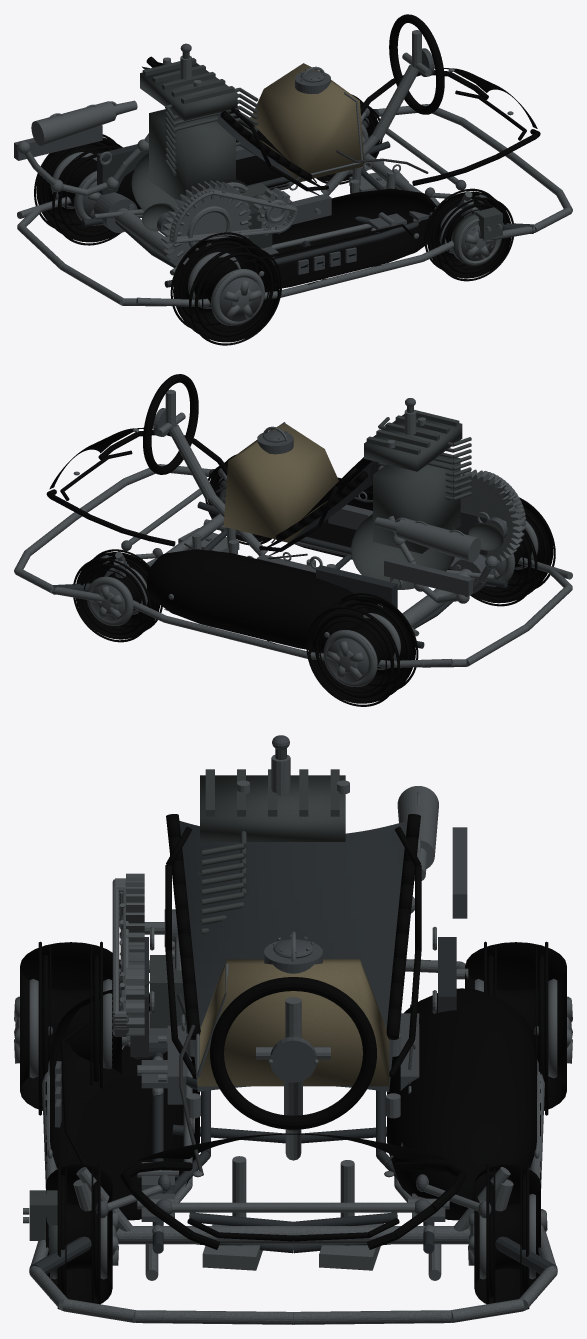
File: SM_Kart_Reference.fbx
The picture shows the model from 3 angles, top to bottom: view 1: azimuth 30°, elevation 25°; view 2: azimuth 150°, elevation 25°; view 3: azimuth 270°, elevation 25°; orthographic projection. The views are drawn at different scales.
Visible parts, largest first — view 1: SK_Kart_Engine_Crankcase_125cc_Engine_Cast_Aluminium, SK_Kart_Fuel_Tank_And_Cap_Fuel_Tank_Clouded_Polymer, SK_Kart_Bodywork_Left_Sidepod_Body_Satin_Graphite, SK_Kart_Bumpers_And_Barwork_Frame_Brushed_Chromoly, SK_Kart_Wheel_RL_Tire_Molded_Sidewall, SK_Kart_Wheel_RL_Tire_Slick_Rubber, SK_Kart_Engine_Ignition_And_Carburettor_Chain_Hardened_Steel, SK_Kart_Engine_Crankcase_125cc_Engine_Fins_Dark_Alloy, SK_Kart_Exhaust_Header_And_Muffler_Exhaust_Heat_Titanium, SK_Kart_Wheel_FL_Tire_Molded_Sidewall, SK_Kart_Wheel_RR_Tire_Molded_Sidewall, SK_Kart_Wheel_RR_Tire_Slick_Rubber (+32 smaller); view 2: SK_Kart_Bodywork_Right_Sidepod_Body_Satin_Graphite, SK_Kart_Engine_Crankcase_125cc_Engine_Cast_Aluminium, SK_Kart_Fuel_Tank_And_Cap_Fuel_Tank_Clouded_Polymer, SK_Kart_Bumpers_And_Barwork_Frame_Brushed_Chromoly, SK_Kart_Wheel_RR_Tire_Molded_Sidewall, SK_Kart_Wheel_RR_Tire_Slick_Rubber, SK_Kart_Engine_Crankcase_125cc_Engine_Fins_Dark_Alloy, SK_Kart_Exhaust_Header_And_Muffler_Exhaust_Heat_Titanium, SK_Kart_Engine_Ignition_And_Carburettor_Chain_Hardened_Steel, SK_Kart_Wheel_FR_Tire_Molded_Sidewall, SK_Kart_Steering_Column_And_Wheel_Frame_Brushed_Chromoly, SK_Kart_Wheel_RL_Tire_Molded_Sidewall (+21 smaller); view 3: SK_Kart_Seat_Sculpted_Tub_Chassis_Powder_Black, SK_Kart_Bodywork_Right_Sidepod_Body_Satin_Graphite, SK_Kart_Fuel_Tank_And_Cap_Fuel_Tank_Clouded_Polymer, SK_Kart_Bodywork_Left_Sidepod_Body_Satin_Graphite, SK_Kart_Bumpers_And_Barwork_Frame_Brushed_Chromoly, SK_Kart_Seat_Sculpted_Tub_Seat_Moulded_Polymer, SK_Kart_Engine_Crankcase_125cc_Engine_Cast_Aluminium, SK_Kart_Wheel_RL_Tire_Slick_Rubber, SK_Kart_Chassis_MainFrame_Chassis_Powder_Black, SK_Kart_Steering_Column_And_Wheel_Rubber_Grip, SK_Kart_Wheel_RR_Tire_Slick_Rubber, SK_Kart_Axles_Steering_And_Hardware_Frame_Brushed_Chromoly (+35 smaller).
Part boxes in pixels (x1,y1,x2,y2): SK_Kart_Engine_Crankcase_125cc_Engine_Cast_Aluminium: (131,63,246,211); SK_Kart_Fuel_Tank_And_Cap_Fuel_Tank_Clouded_Polymer: (251,63,364,181); SK_Kart_Bodywork_Left_Sidepod_Body_Satin_Graphite: (264,188,440,291); SK_Kart_Bumpers_And_Barwork_Frame_Brushed_Chromoly: (17,104,572,306); SK_Kart_Wheel_RL_Tire_Molded_Sidewall: (170,232,281,345); SK_Kart_Wheel_RL_Tire_Slick_Rubber: (173,235,279,342); SK_Kart_Engine_Ignition_And_Carburettor_Chain_Hardened_Steel: (161,180,293,266); SK_Kart_Engine_Crankcase_125cc_Engine_Fins_Dark_Alloy: (142,58,258,175); SK_Kart_Exhaust_Header_And_Muffler_Exhaust_Heat_Titanium: (17,101,148,195); SK_Kart_Wheel_FL_Tire_Molded_Sidewall: (424,188,513,281); SK_Kart_Wheel_RR_Tire_Molded_Sidewall: (34,134,121,245); SK_Kart_Wheel_RR_Tire_Slick_Rubber: (36,137,122,242); SK_Kart_Bodywork_Right_Sidepod_Body_Satin_Graphite: (146,549,367,652); SK_Kart_Engine_Crankcase_125cc_Engine_Cast_Aluminium: (351,414,462,589); SK_Kart_Fuel_Tank_And_Cap_Fuel_Tank_Clouded_Polymer: (223,423,338,542); SK_Kart_Bumpers_And_Barwork_Frame_Brushed_Chromoly: (14,464,572,667); SK_Kart_Wheel_RR_Tire_Molded_Sidewall: (306,593,418,706); SK_Kart_Wheel_RR_Tire_Slick_Rubber: (308,596,415,703); SK_Kart_Engine_Crankcase_125cc_Engine_Fins_Dark_Alloy: (366,409,471,500); SK_Kart_Exhaust_Header_And_Muffler_Exhaust_Heat_Titanium: (387,515,498,603); SK_Kart_Engine_Ignition_And_Carburettor_Chain_Hardened_Steel: (460,469,525,562); SK_Kart_Wheel_FR_Tire_Molded_Sidewall: (73,549,162,642); SK_Kart_Steering_Column_And_Wheel_Frame_Brushed_Chromoly: (156,389,267,555); SK_Kart_Wheel_RL_Tire_Molded_Sidewall: (470,497,555,606); SK_Kart_Seat_Sculpted_Tub_Chassis_Powder_Black: (179,820,407,1091); SK_Kart_Bodywork_Right_Sidepod_Body_Satin_Graphite: (387,988,536,1220); SK_Kart_Fuel_Tank_And_Cap_Fuel_Tank_Clouded_Polymer: (197,959,389,1086); SK_Kart_Bodywork_Left_Sidepod_Body_Satin_Graphite: (50,988,199,1220); SK_Kart_Bumpers_And_Barwork_Frame_Brushed_Chromoly: (29,959,557,1324); SK_Kart_Seat_Sculpted_Tub_Seat_Moulded_Polymer: (165,814,421,1077); SK_Kart_Engine_Crankcase_125cc_Engine_Cast_Aluminium: (197,775,345,874); SK_Kart_Wheel_RL_Tire_Slick_Rubber: (20,942,121,1110); SK_Kart_Chassis_MainFrame_Chassis_Powder_Black: (152,1052,434,1253); SK_Kart_Steering_Column_And_Wheel_Rubber_Grip: (210,977,376,1129); SK_Kart_Wheel_RR_Tire_Slick_Rubber: (465,942,566,1110); SK_Kart_Axles_Steering_And_Hardware_Frame_Brushed_Chromoly: (76,1036,470,1280).
Bounding box in the file's own units: 209 × 134 × 104.
Materials: 18 (15 with a texture image).
